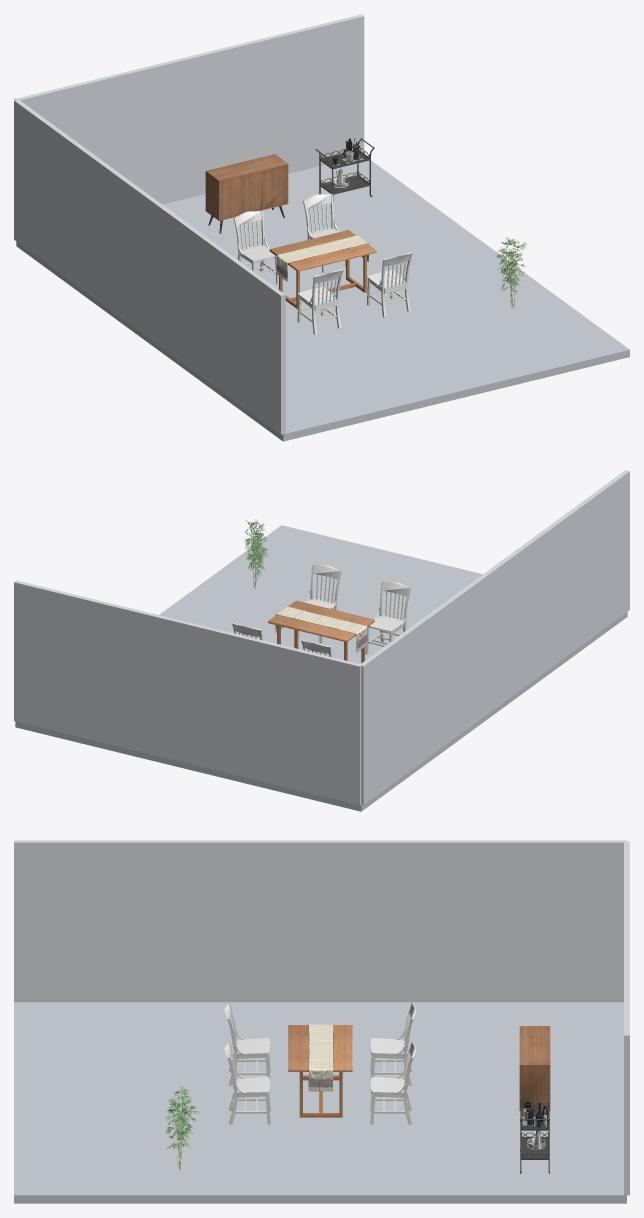
The model's file is stage3.glb.
The picture shows the model from 3 angles, top to bottom: view 1: azimuth 30°, elevation 25°; view 2: azimuth 150°, elevation 25°; view 3: azimuth 270°, elevation 25°; orthographic projection. The views are drawn at different scales.
Parts seen in each view (by area): view 1: Floor, wall_left, wall_back, raw_model.004, solid_001, raw_model.005, raw_model.001, raw_model, raw_model.003, solid_002, raw_model.002, raw_model.006; view 2: wall_back, wall_left, Floor, solid_001, raw_model.001, solid_002, raw_model, raw_model.006; view 3: Floor, wall_left, solid_001, raw_model.004, wall_back, raw_model.005, raw_model.002, solid_002, raw_model, raw_model.003, raw_model.001, raw_model.006.
Part boxes in pixels (box(x1,y1,x2,y2)): Floor: box(16, 160, 629, 441); wall_left: box(14, 100, 285, 434); wall_back: box(15, 14, 364, 204); raw_model.004: box(205, 154, 288, 233); solid_001: box(269, 230, 376, 309); raw_model.005: box(315, 137, 374, 206); raw_model.001: box(297, 269, 343, 334); raw_model: box(367, 252, 412, 317); raw_model.003: box(233, 210, 278, 283); solid_002: box(277, 235, 368, 281); raw_model.002: box(303, 193, 345, 272); raw_model.006: box(497, 237, 527, 307); wall_back: box(14, 580, 361, 805); wall_left: box(360, 470, 629, 804); Floor: box(15, 525, 627, 811); solid_001: box(268, 600, 374, 662); raw_model.001: box(365, 581, 410, 654); solid_002: box(275, 606, 367, 652); raw_model: box(298, 564, 341, 643); raw_model.006: box(244, 519, 268, 588); Floor: box(14, 1002, 626, 1203); wall_left: box(14, 840, 626, 1002); solid_001: box(288, 1025, 352, 1117); raw_model.004: box(519, 1026, 550, 1110); wall_back: box(624, 841, 629, 1195); raw_model.005: box(519, 1093, 550, 1173); raw_model.002: box(370, 1041, 416, 1124); solid_002: box(308, 1024, 333, 1091); raw_model: box(224, 1041, 270, 1124); raw_model.003: box(370, 1002, 416, 1085); raw_model.001: box(224, 1002, 270, 1085); raw_model.006: box(166, 1085, 199, 1170).
Bounding box in the file's own units: 6.04 × 2.42 × 8.04.
Materials: 10 (8 with a texture image).
